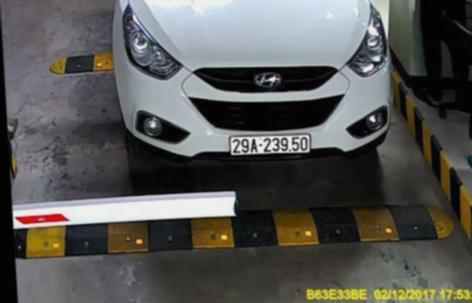License_Plate: (228, 126, 316, 159)
